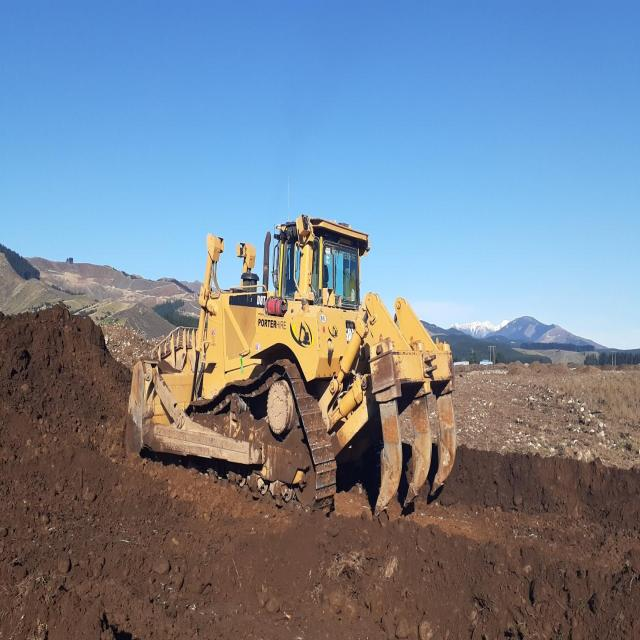Bulldozer: (95, 187, 466, 520)
